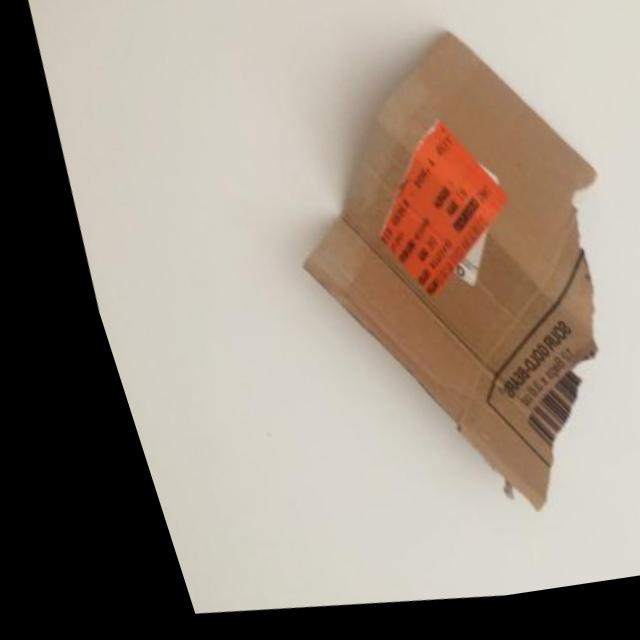cardboard: (153, 0, 640, 595)
